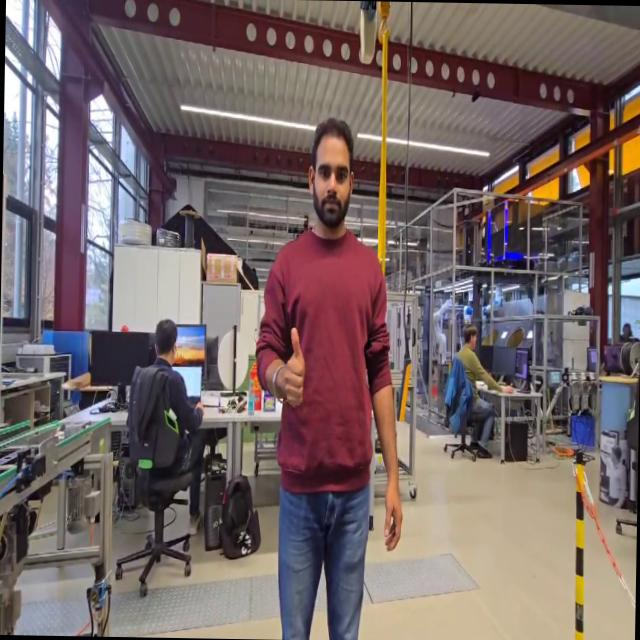thumbs_up: (273, 321, 309, 414)
